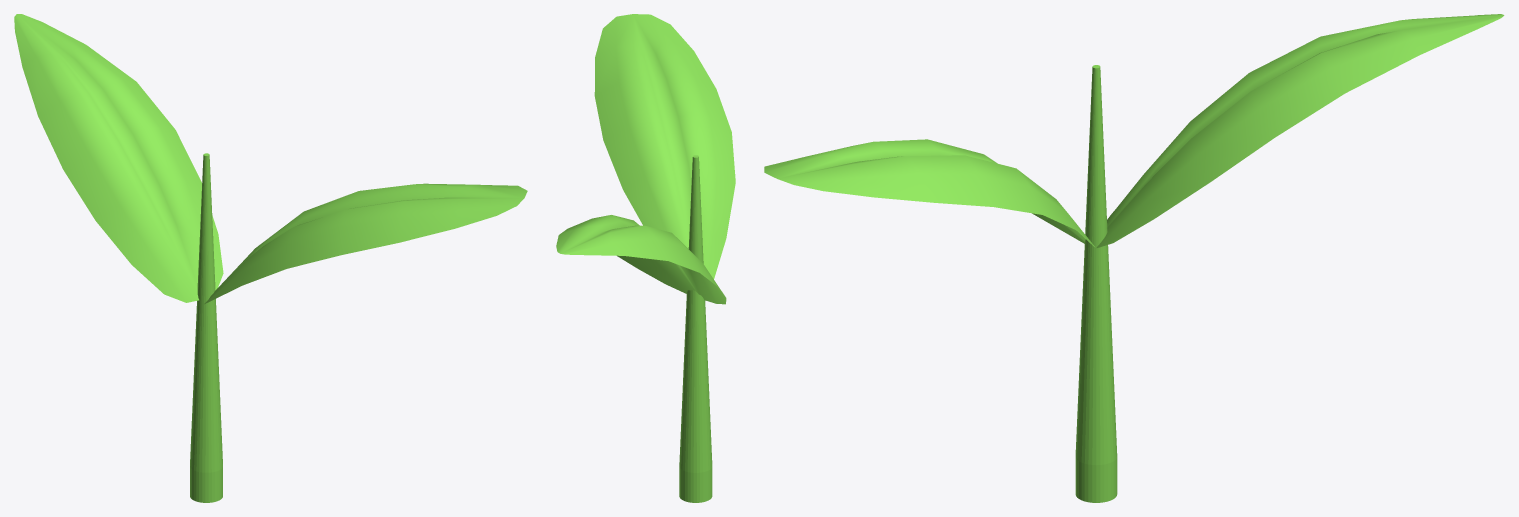
File: sprout-draco.glb
3 renders of one model, left to right at view 1: azimuth 30°, elevation 25°; view 2: azimuth 150°, elevation 25°; view 3: azimuth 270°, elevation 25°, orthographic. The views are drawn at different scales.
Visible parts, largest first — view 1: Cylinder; view 2: Cylinder; view 3: Cylinder.
Boxes of the visible parts, x1,y1,x2,y2 form: Cylinder: (14, 14, 527, 502); Cylinder: (556, 14, 735, 502); Cylinder: (764, 14, 1504, 502).
Size of what is drawn, in the model's own units: 0.5248 by 0.6705 by 0.9726.
